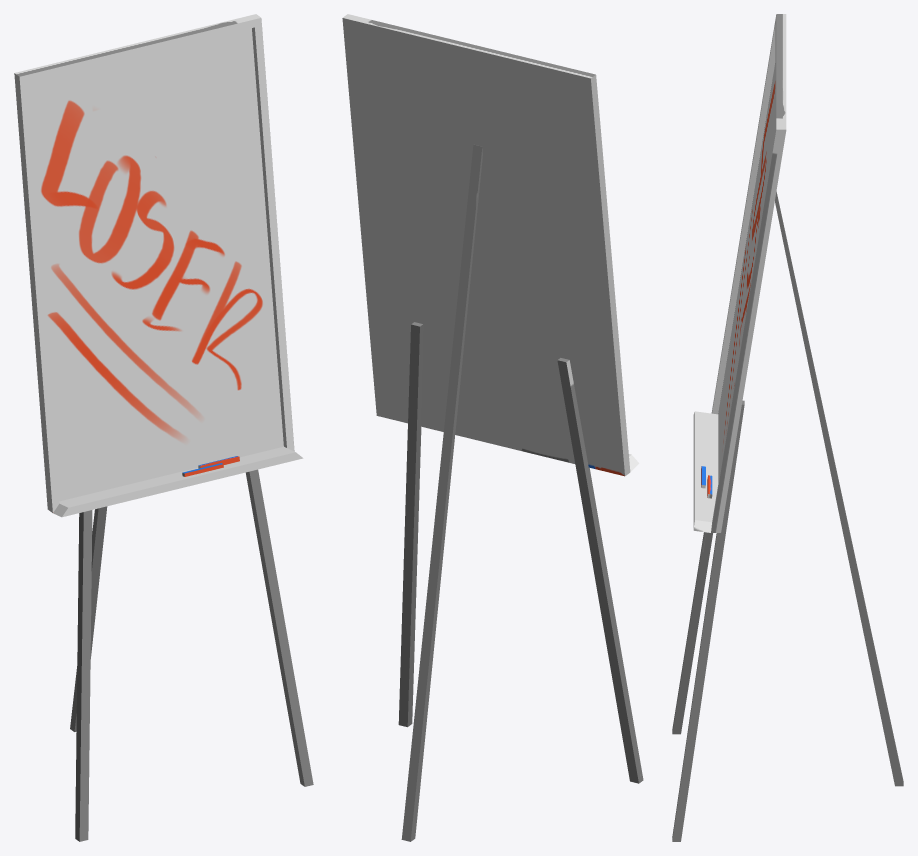
File: tablica2.glb
3 views of the same model, side by side, from view 1: azimuth 30°, elevation 25°; view 2: azimuth 150°, elevation 25°; view 3: azimuth 270°, elevation 25° (orthographic). The views are drawn at different scales.
Parts seen in each view (by area): view 1: Cube.021; view 2: Cube.021; view 3: Cube.021.
Part boxes in pixels (x1,y1,x2,y2): Cube.021: (14, 14, 313, 841); Cube.021: (342, 14, 643, 841); Cube.021: (672, 14, 903, 841).
Size of the model in its own units: 1.8 by 5.16 by 1.52.
Materials: 1 (1 with a texture image).
